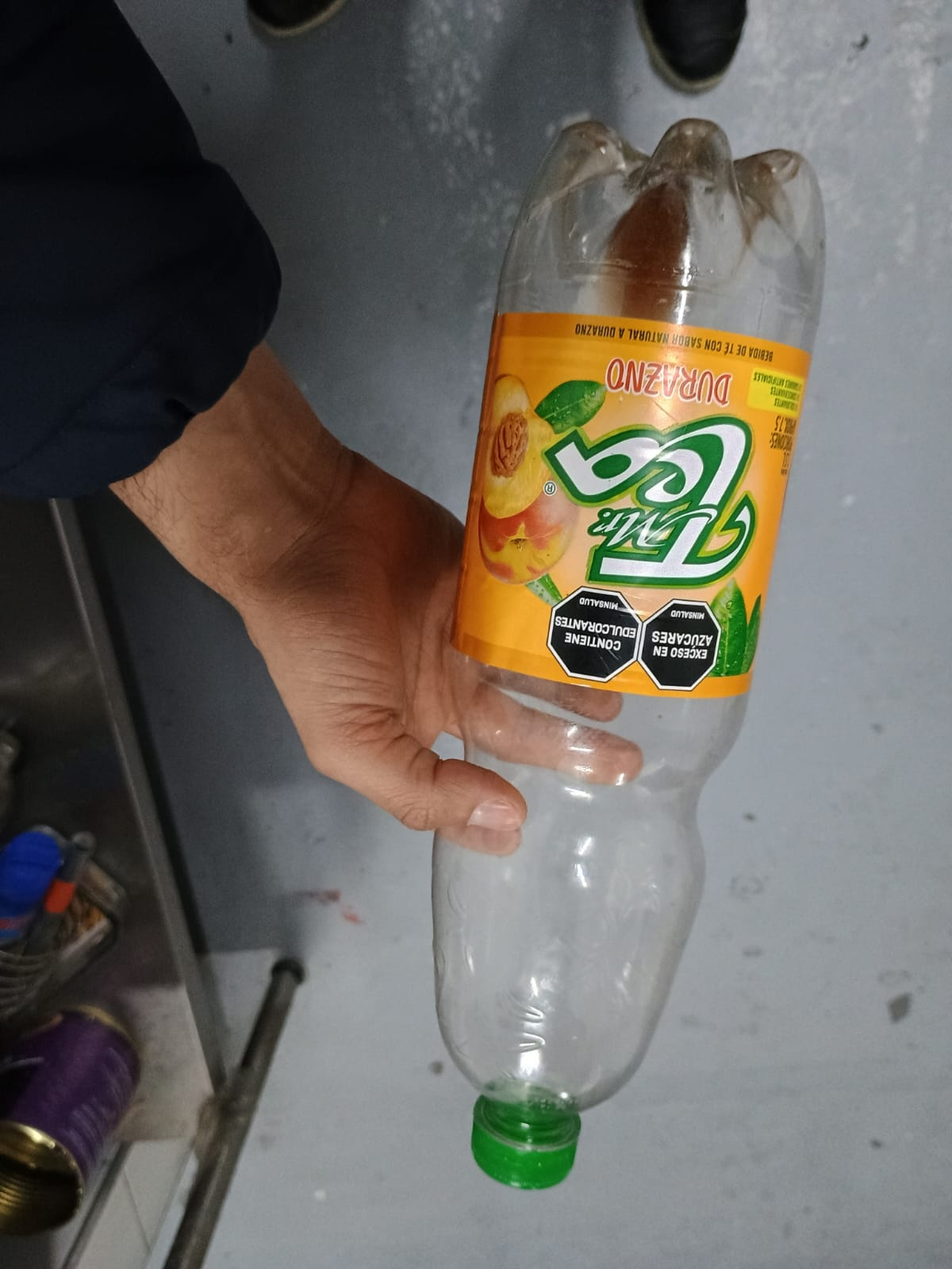Plastico: (432, 119, 830, 1191)
